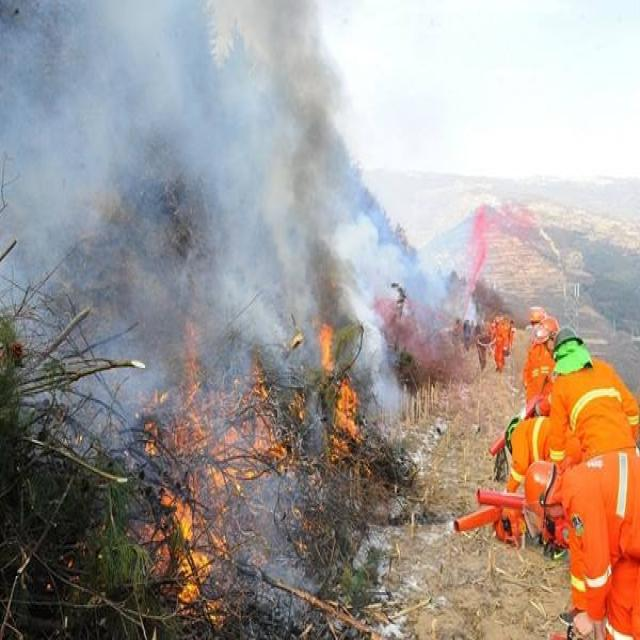fire: (140, 312, 375, 624)
smoke: (0, 0, 467, 422)
